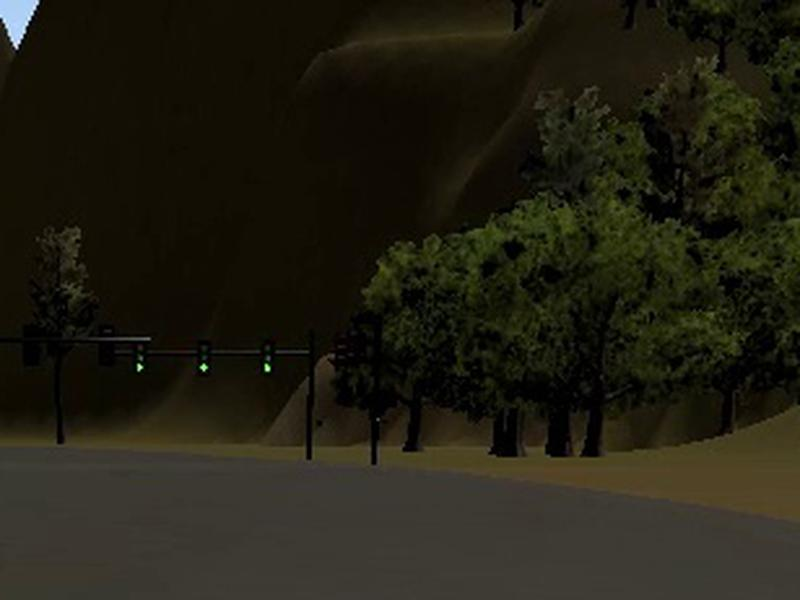Green: (197, 342, 212, 377), (133, 342, 148, 374), (260, 342, 274, 375)
